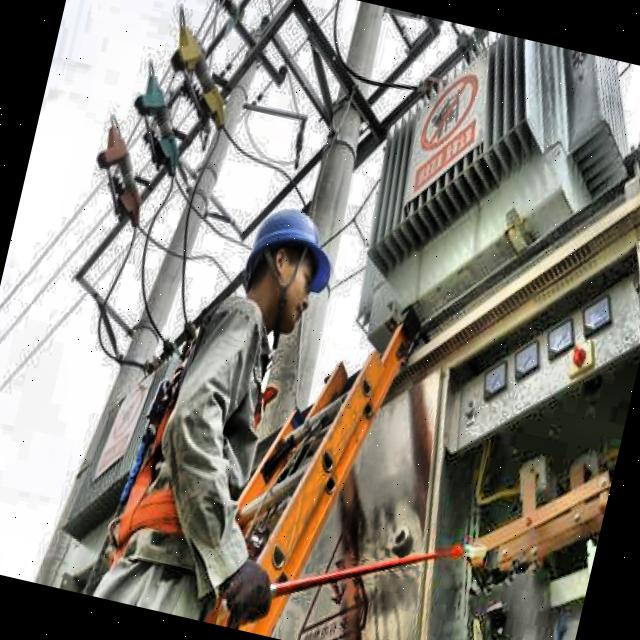helmet: (222, 184, 345, 347)
